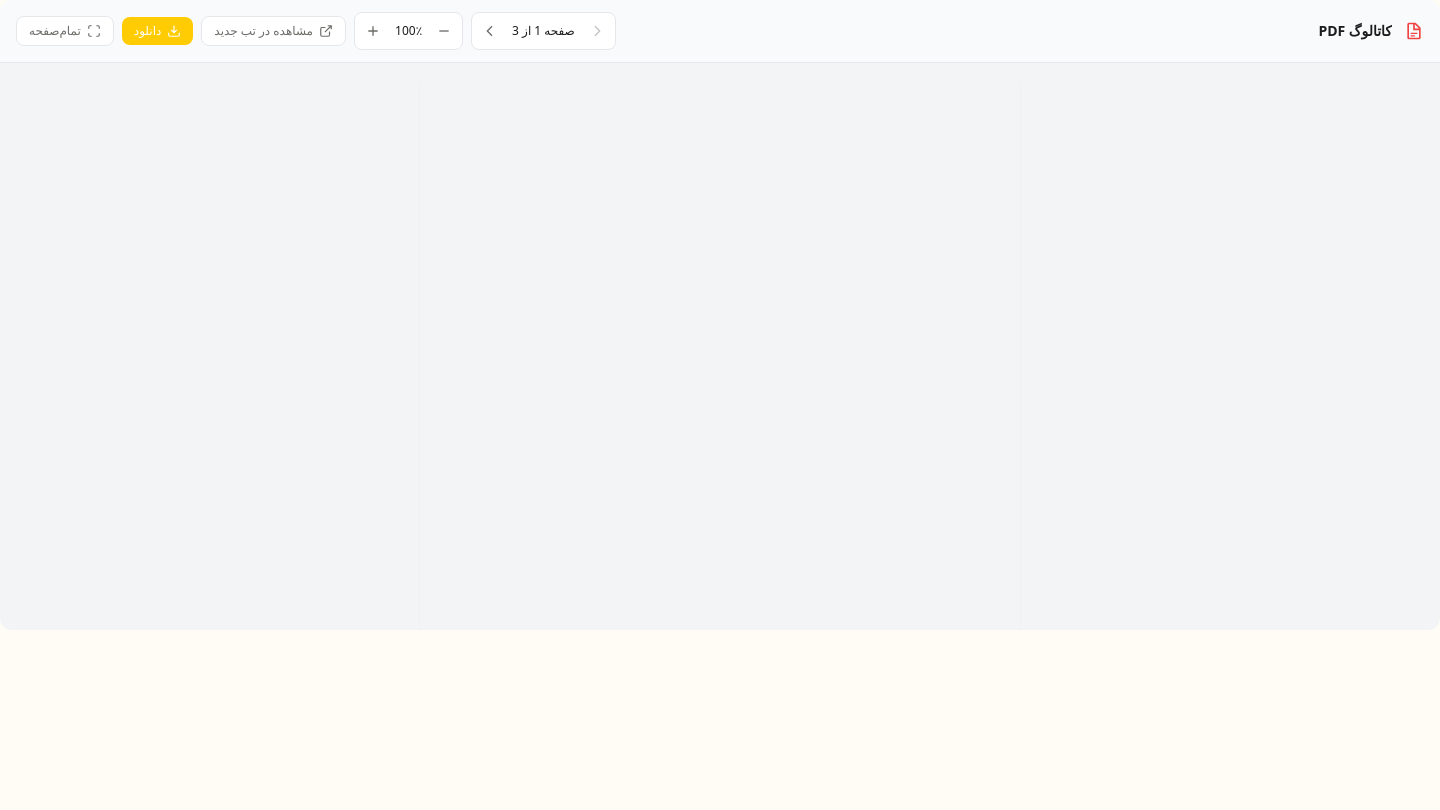
Test: PdfViewer — page navigation › navigates next/previous and clamps at the bounds
Expected: the text "صفحه 1 از 3" is shown, [508,23,579,39]
Expected: the button named "صفحه قبل" is disabled, [583,17,611,45]
Click the button named "صفحه بعد": [490, 31] box [476,17,504,45]
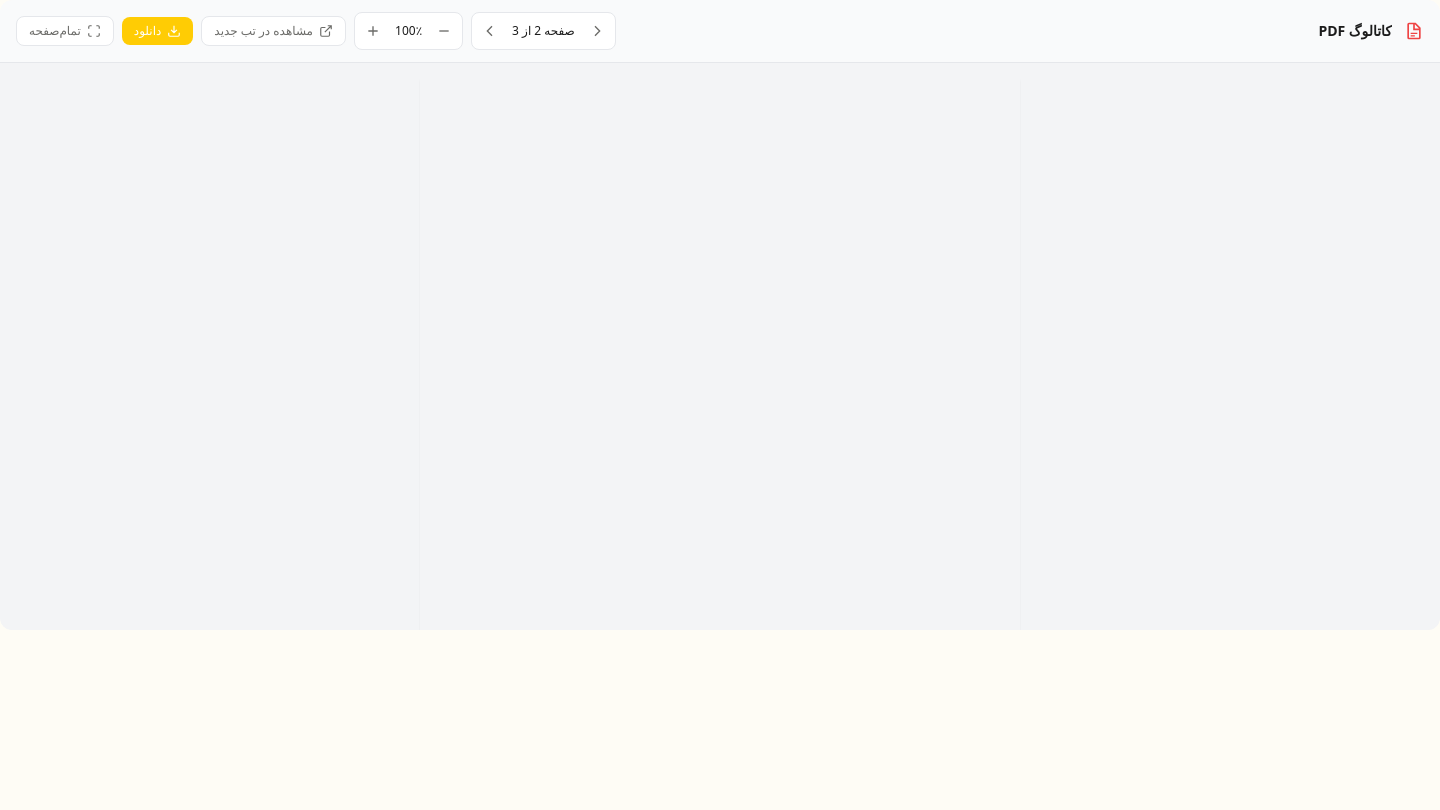
Now the text "صفحه 2 از 3" is shown, box [508,23,579,39]
Click the button named "صفحه بعد": [490, 31] box [476,17,504,45]
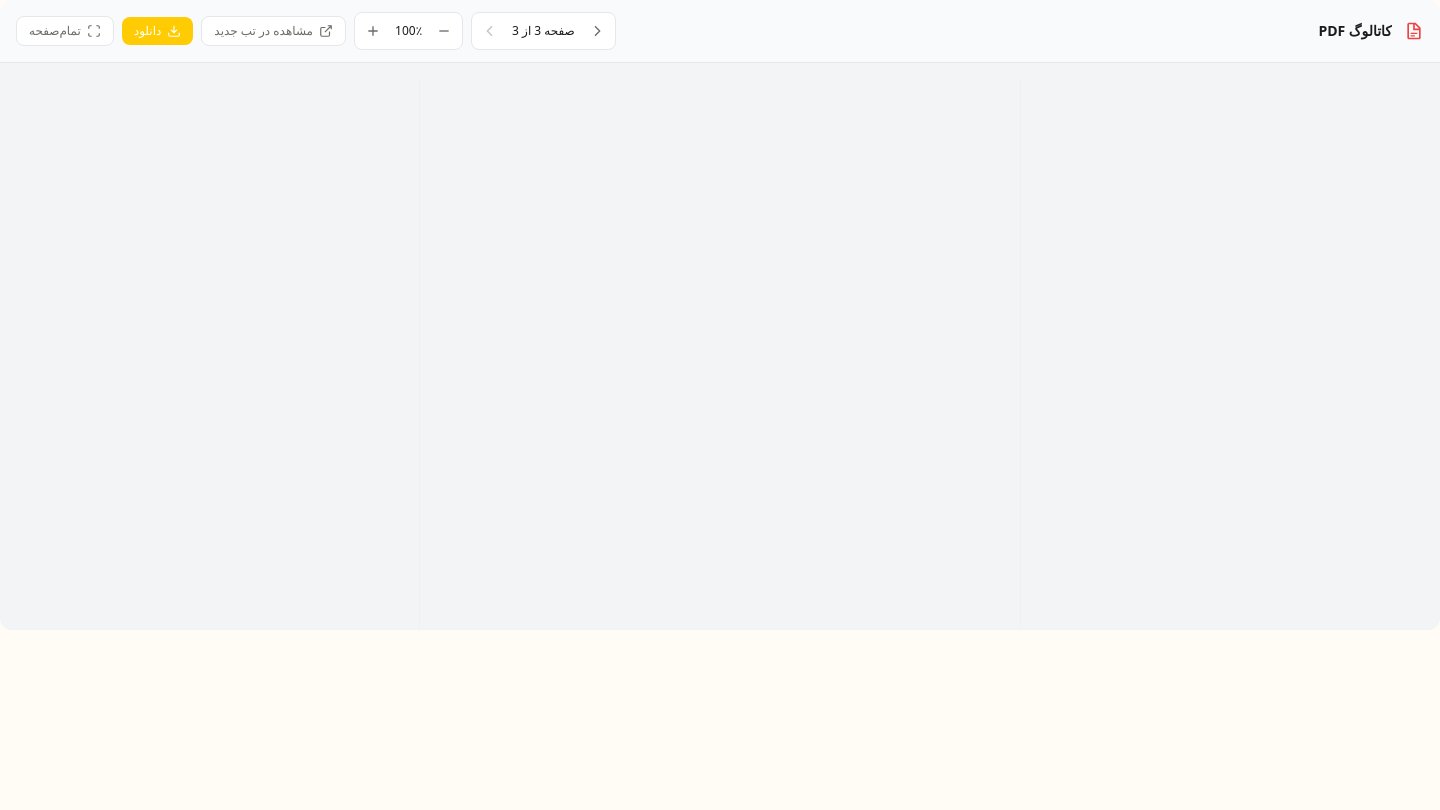
Now the text "صفحه 3 از 3" is shown, box [508,23,579,39]
Click the button named "صفحه قبل": [597, 31] box [583,17,611,45]
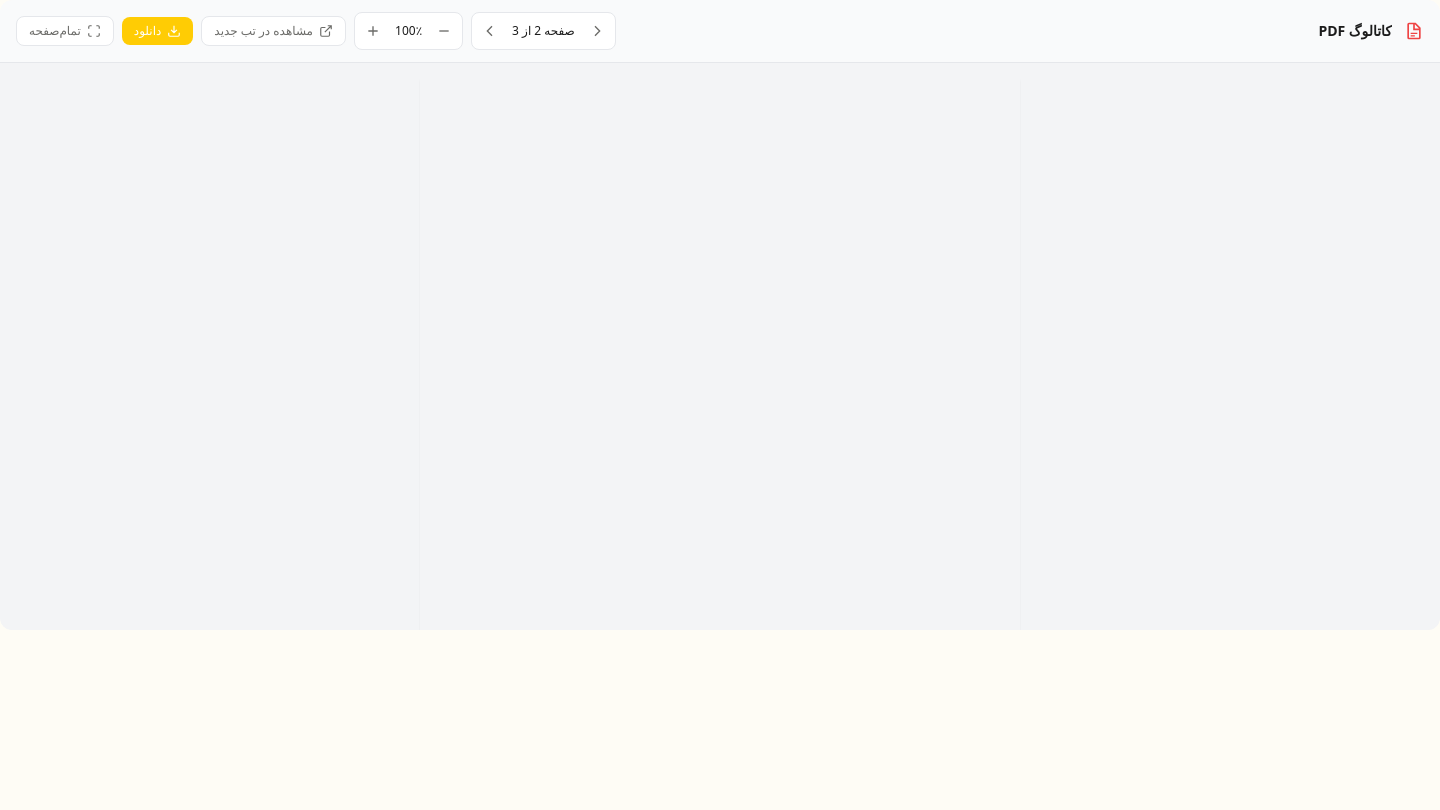
Now the text "صفحه 2 از 3" is shown, box [508,23,579,39]
